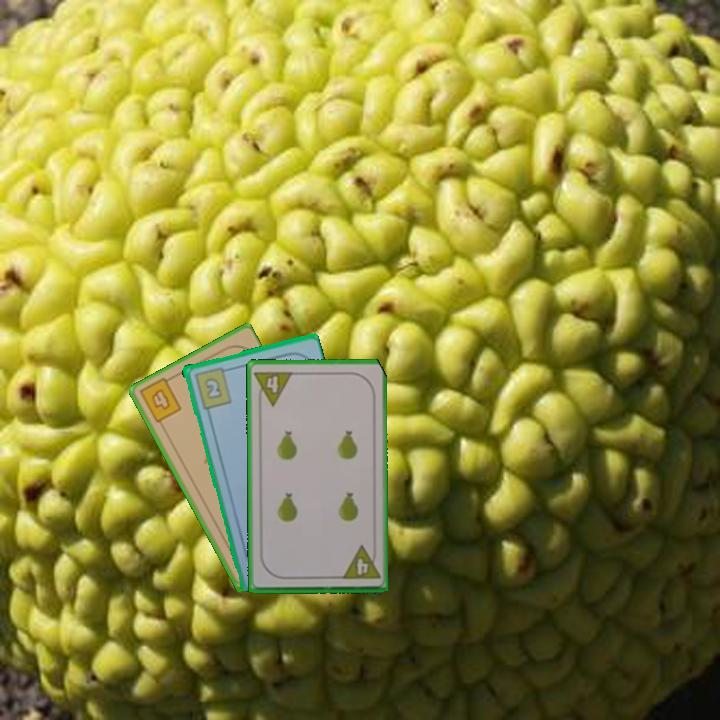2b: (190, 363, 234, 411)
4b: (136, 373, 184, 426)
4p: (251, 367, 295, 408), (338, 543, 383, 582)
